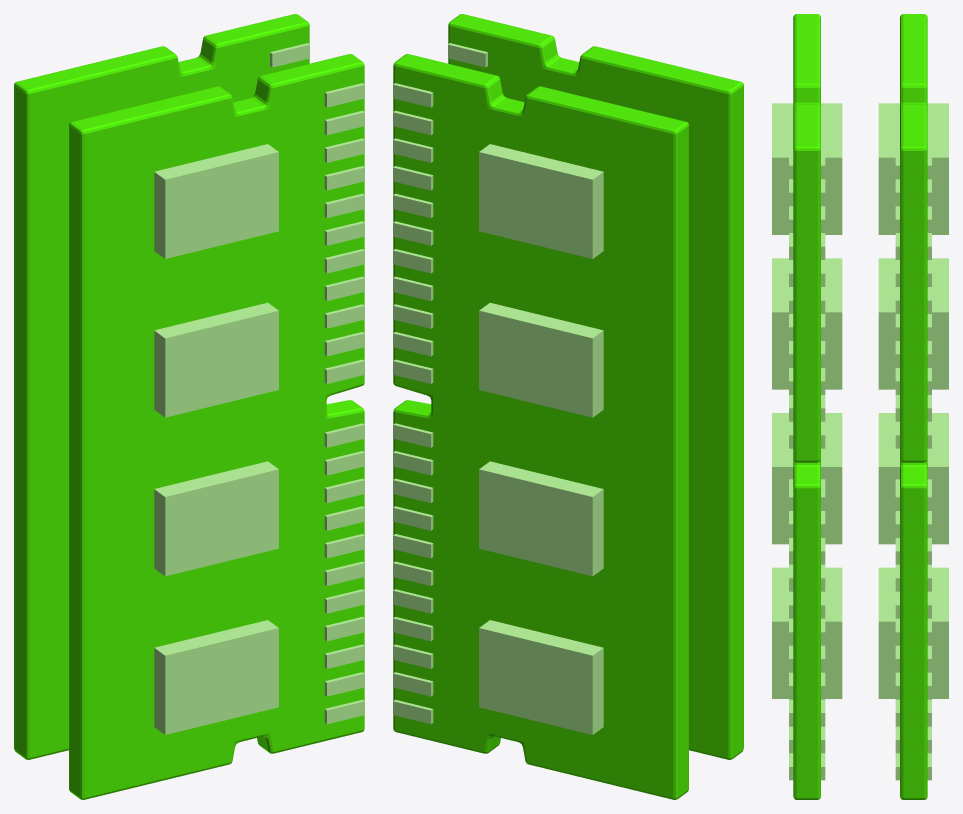
Rendered from RAM.fbx.
3 renders of one model, left to right at view 1: azimuth 30°, elevation 25°; view 2: azimuth 150°, elevation 25°; view 3: azimuth 270°, elevation 25°, orthographic. The views are drawn at different scales.
Parts seen in each view (by area): view 1: RAM; view 2: RAM; view 3: RAM.
Boxes of the visible parts, <box> form: RAM: <box>14,14,364,799</box>; RAM: <box>393,14,743,799</box>; RAM: <box>772,14,948,799</box>.
Size of the model in its own units: 15 by 33.79 by 8.29.
